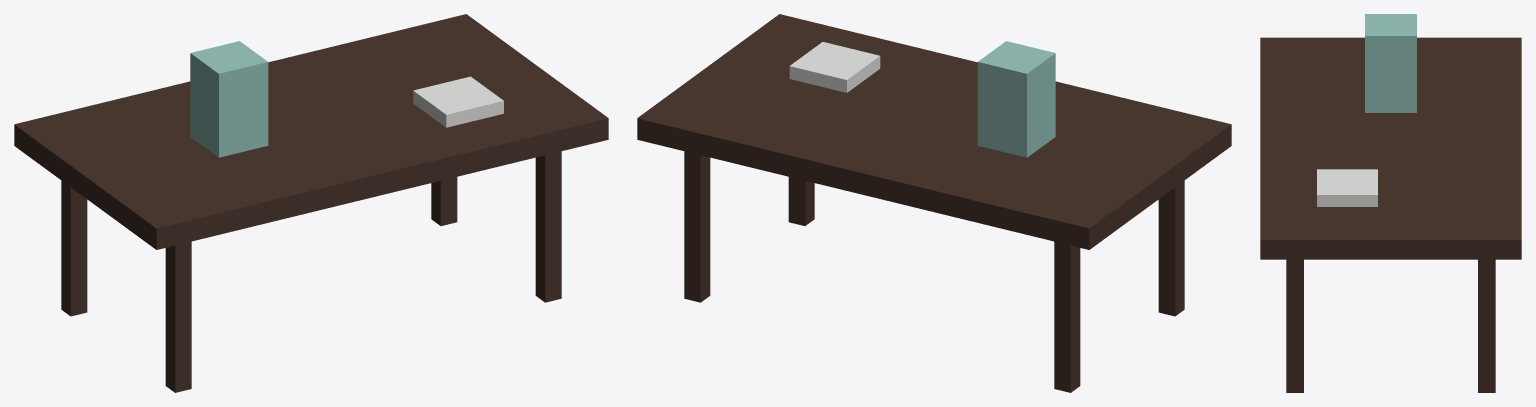
Rendered from mesa_centro_1975.glb.
3 views of the same model, side by side, from view 1: azimuth 30°, elevation 25°; view 2: azimuth 150°, elevation 25°; view 3: azimuth 270°, elevation 25° (orthographic). The views are drawn at different scales.
Parts seen in each view (by area): view 1: Malha_0; view 2: Malha_0; view 3: Malha_0.
Boxes of the visible parts, x1,y1,x2,y2 form: Malha_0: (14,14,608,392); Malha_0: (637,14,1231,392); Malha_0: (1260,14,1521,392).
Bounding box in the file's own units: 1.1 × 0.62 × 0.6.
